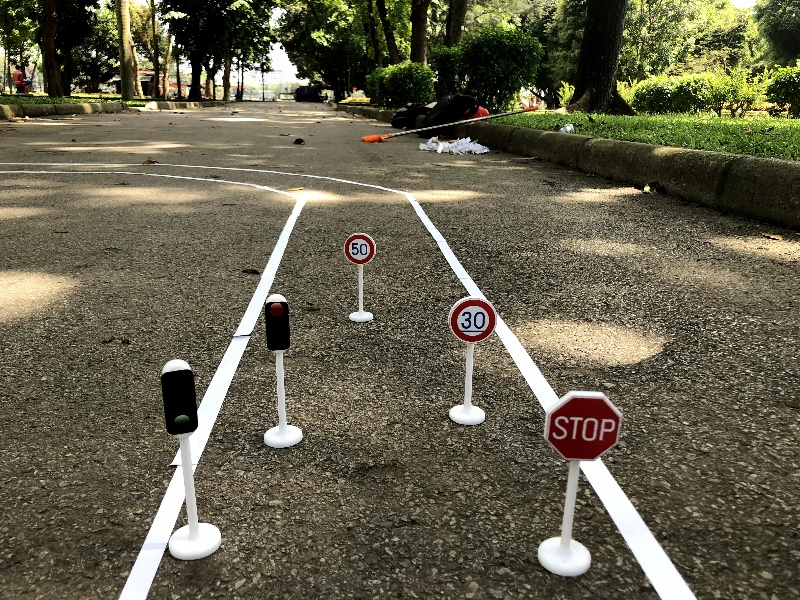Green: (161, 358, 222, 562)
Limit 30: (446, 295, 498, 428)
Limit 50: (342, 231, 377, 325)
Red: (261, 292, 306, 448)
Stop: (535, 390, 623, 577)
